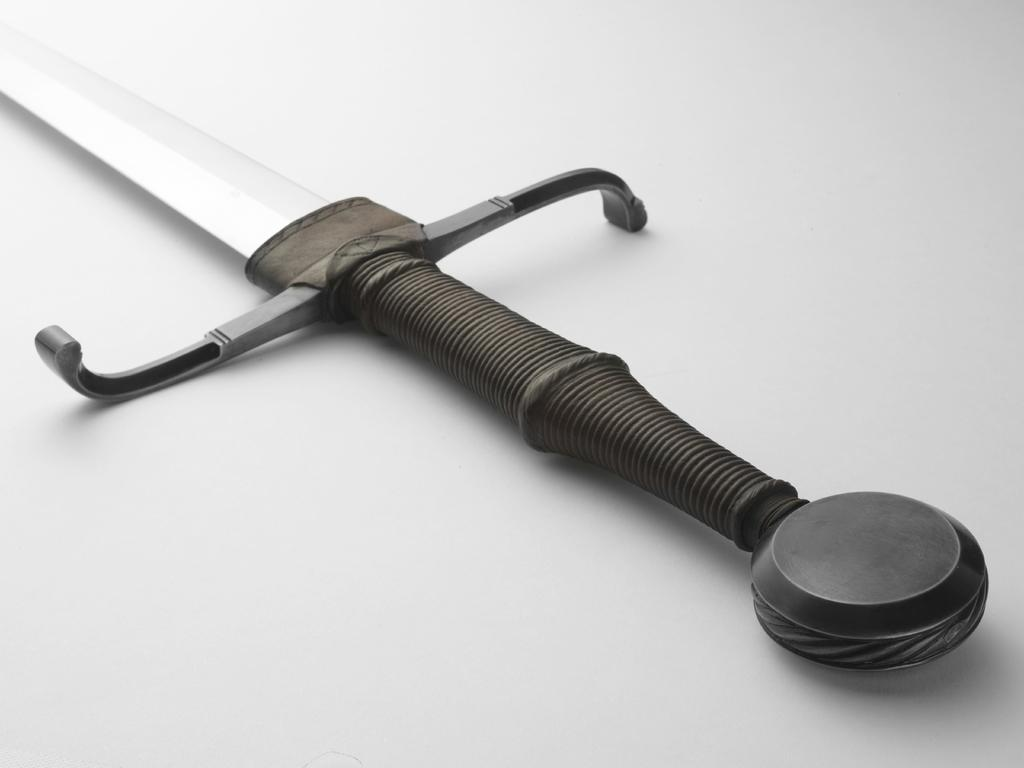Sword: (0, 10, 1002, 669)
